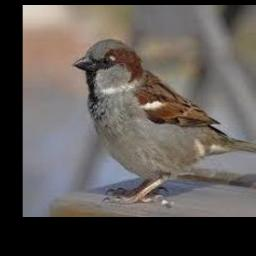Sparrow: (71, 38, 256, 203)
